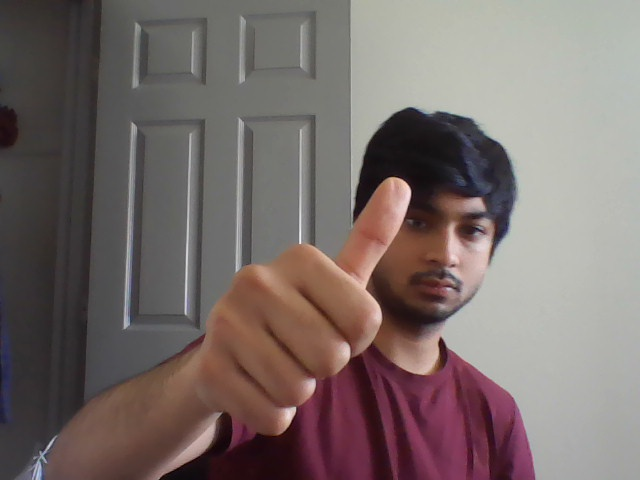confirm: (196, 171, 420, 443)
